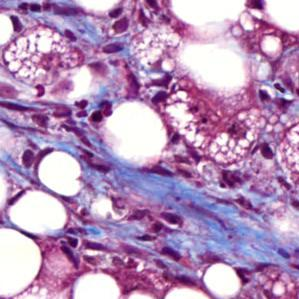steatosis: (37, 152, 89, 194)
